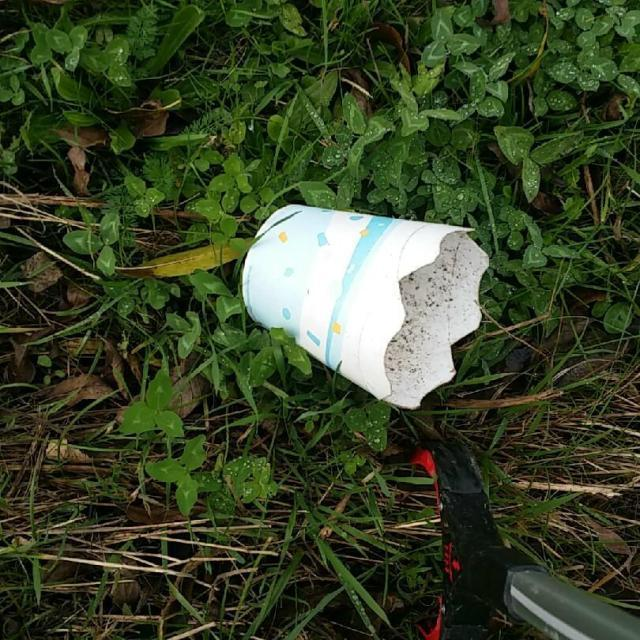Paper: (238, 202, 490, 414)
